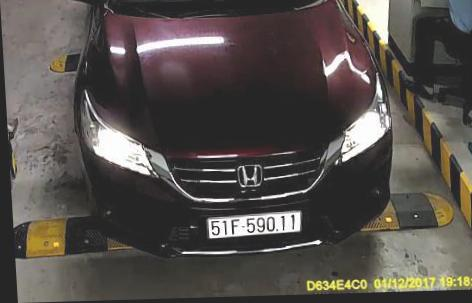License_Plate: (205, 206, 304, 243)
